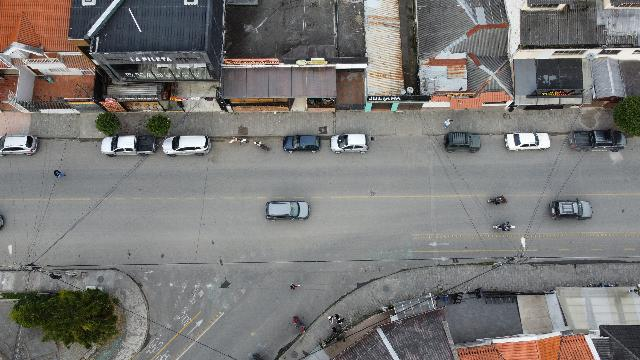Vehiculo: (569, 130, 627, 152), (102, 136, 156, 156), (162, 134, 210, 156), (550, 198, 592, 220), (266, 200, 310, 220), (0, 134, 38, 156), (504, 132, 550, 150), (330, 133, 368, 153), (444, 132, 481, 152), (284, 136, 320, 153)
